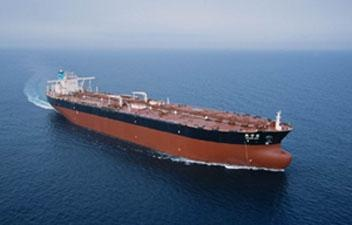Cargoship: (41, 65, 294, 169)
